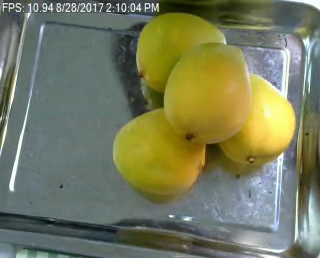Mango: (161, 43, 248, 142), (112, 106, 205, 195), (212, 73, 295, 165), (138, 13, 225, 93)
